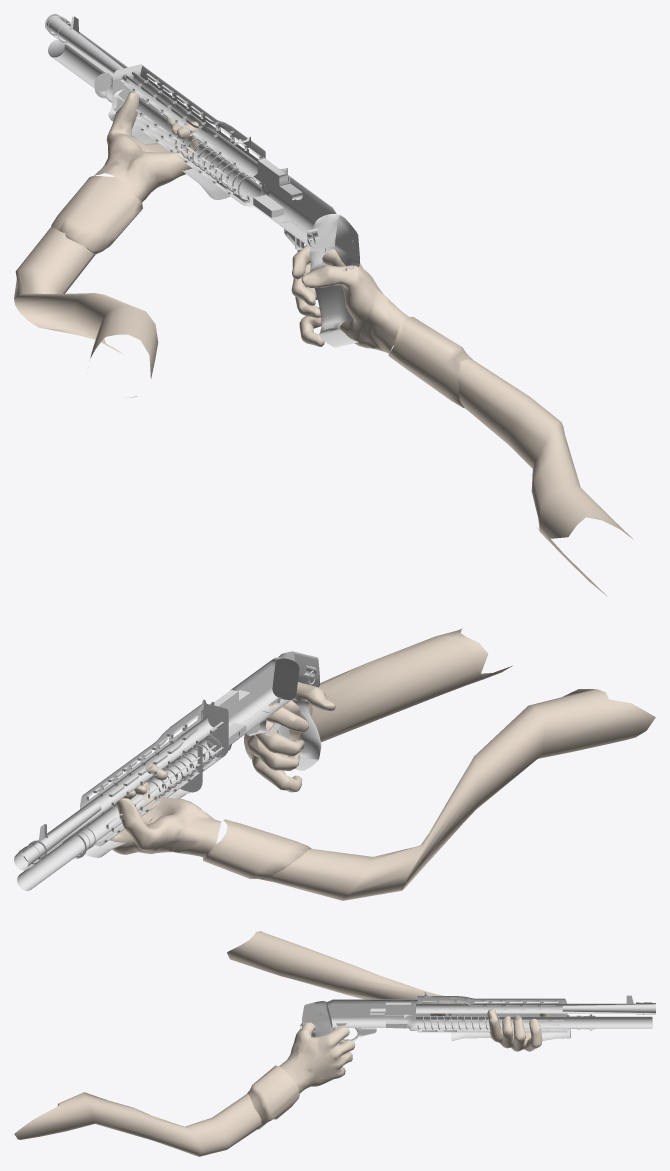
Rendered from spas_posed.glb.
The picture shows the model from 3 angles, top to bottom: view 1: azimuth 30°, elevation 25°; view 2: azimuth 150°, elevation 25°; view 3: azimuth 270°, elevation 25°; orthographic projection. The views are drawn at different scales.
Parts seen in each view (by area): view 1: char, body (×2); view 2: char, body (×2); view 3: char, body (×2).
Boxes of the visible parts, x1=… form: char: x1=14, y1=91, x2=633, y2=596; body (×2): x1=45, y1=14, x2=360, y2=347; char: x1=110, y1=628, x2=655, y2=900; body (×2): x1=14, y1=651, x2=321, y2=890; char: x1=14, y1=931, x2=548, y2=1156; body (×2): x1=300, y1=992, x2=655, y2=1042.
Size of the model in its own units: 0.8059 by 0.3911 by 1.7.
